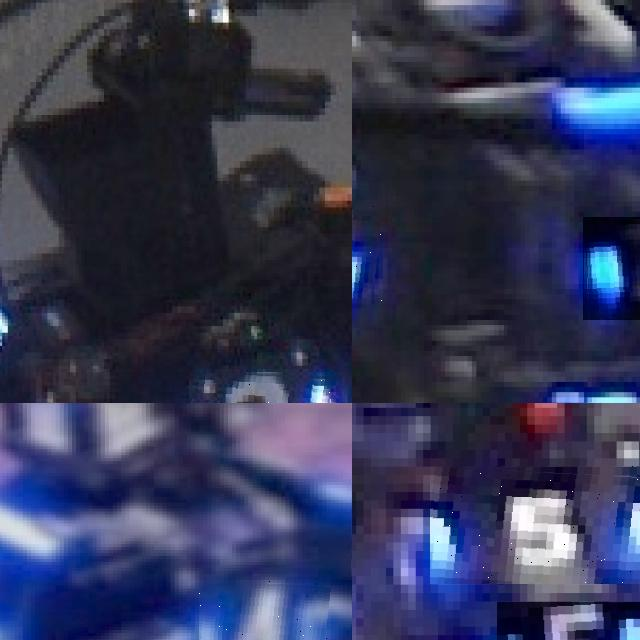B2: (583, 217, 640, 320), (188, 369, 333, 403), (352, 183, 385, 327)
B4: (199, 579, 330, 640)
B5: (430, 466, 640, 584), (497, 601, 640, 640)
